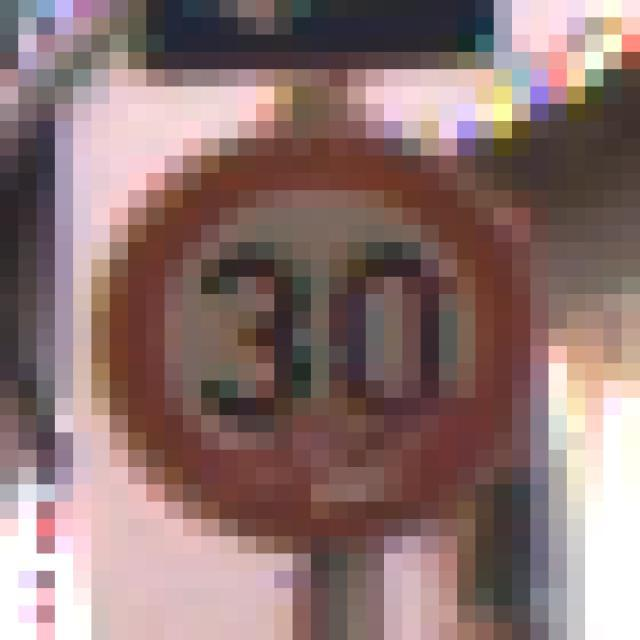Speed Limit -30-: (82, 95, 521, 545)
